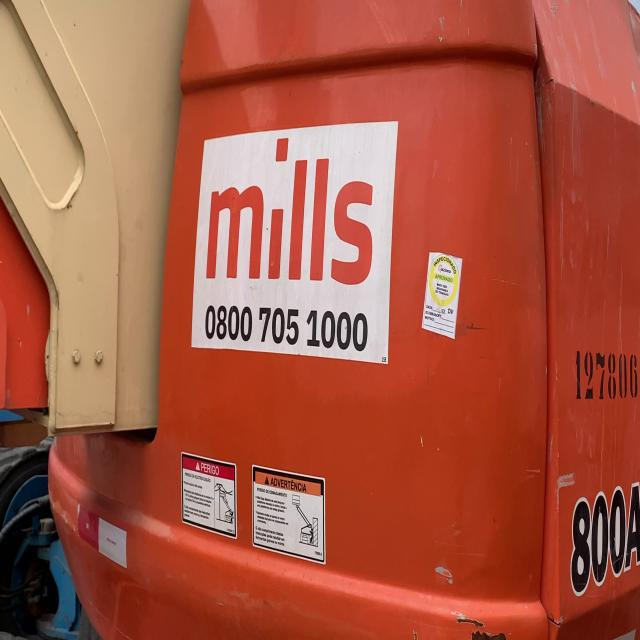Adesivos: (189, 115, 400, 370)
